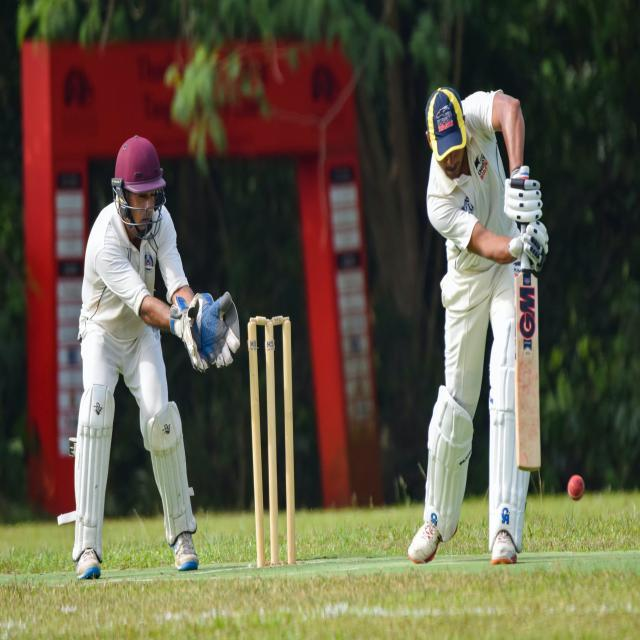stumps: (245, 311, 299, 567)
